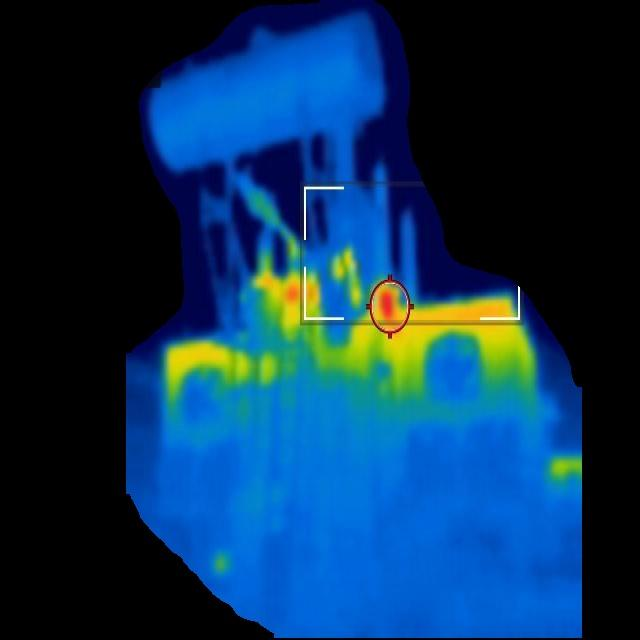Loose Joint F: (260, 276, 313, 303), (376, 292, 404, 324)
Transformer Overload: (162, 299, 533, 409)
